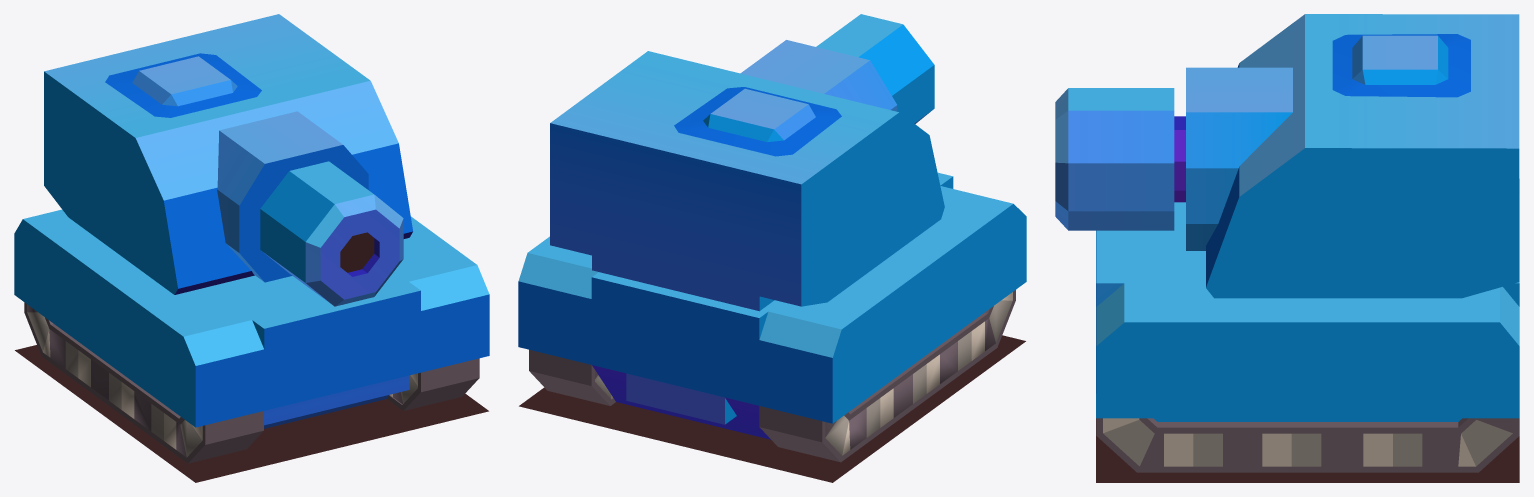
The model's file is TankMesh.BlueMoon.glb.
3 renders of one model, left to right at view 1: azimuth 30°, elevation 25°; view 2: azimuth 150°, elevation 25°; view 3: azimuth 270°, elevation 25°, orthographic. The views are drawn at different scales.
Parts seen in each view (by area): view 1: TankMesh.BlueMoon; view 2: TankMesh.BlueMoon; view 3: TankMesh.BlueMoon.
Boxes of the visible parts, x1,y1,x2,y2 form: TankMesh.BlueMoon: (14,14,489,482); TankMesh.BlueMoon: (518,14,1026,482); TankMesh.BlueMoon: (1055,14,1519,482).
Size of the model in its own units: 1.5 by 1.38 by 1.76.
Materials: 1 (1 with a texture image).
